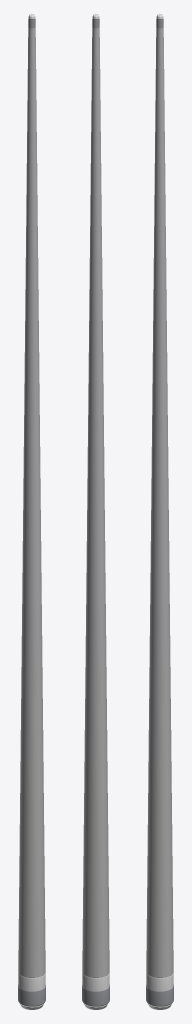
File: Cue.fbx
The picture shows the model from 3 angles, left to right: view 1: azimuth 30°, elevation 25°; view 2: azimuth 150°, elevation 25°; view 3: azimuth 330°, elevation 25°; orthographic projection.
Visible parts, largest first — view 1: Cue; view 2: Cue; view 3: Cue.
Part boxes in pixels (left/top/right/bottom): Cue: left=18, top=14, right=45, bottom=1009; Cue: left=82, top=14, right=109, bottom=1009; Cue: left=146, top=14, right=173, bottom=1009.
Bounding box in the file's own units: 2.95 × 116 × 2.95.
